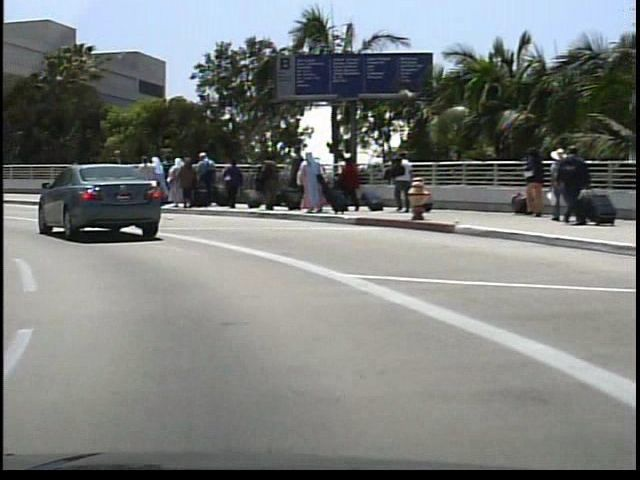person: (548, 143, 586, 227), (104, 147, 131, 208), (69, 151, 96, 212), (387, 148, 410, 214), (132, 153, 151, 206), (73, 156, 93, 197)
